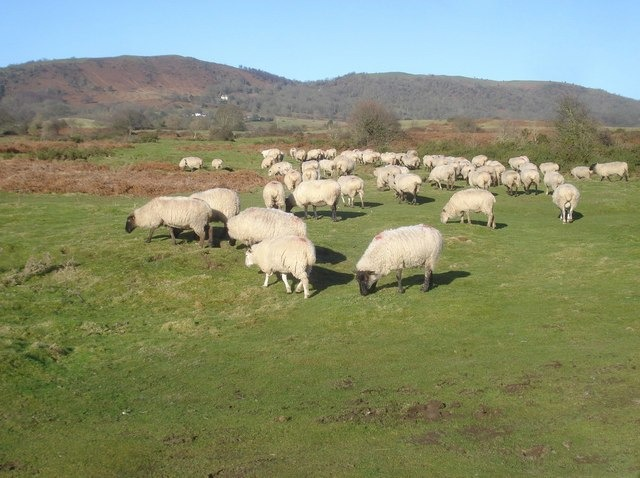grazing: (355, 224, 442, 293), (439, 187, 501, 232)
standing: (239, 238, 320, 299), (124, 196, 215, 247)
